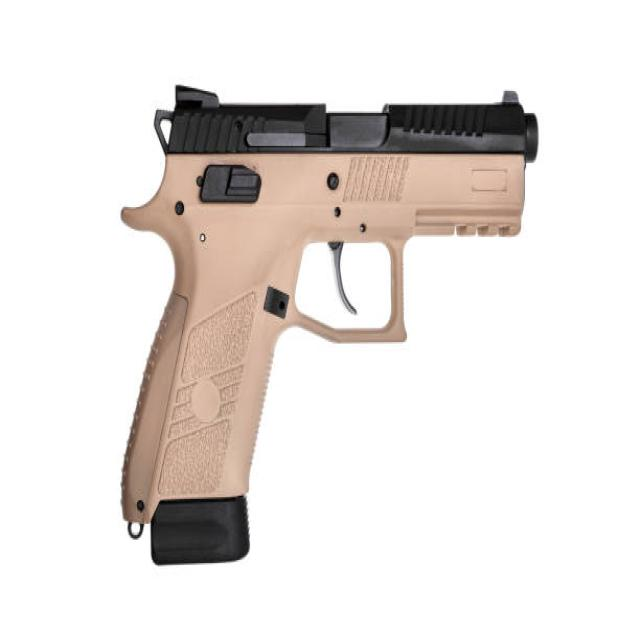pistol: (111, 79, 546, 576)
